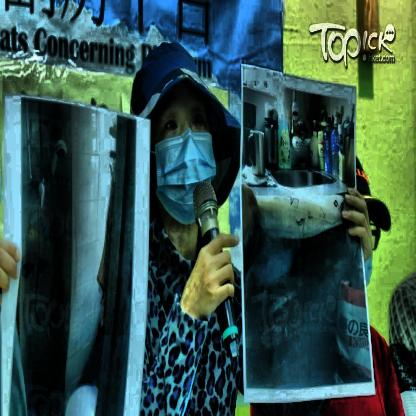not_wear: (130, 38, 235, 226)
